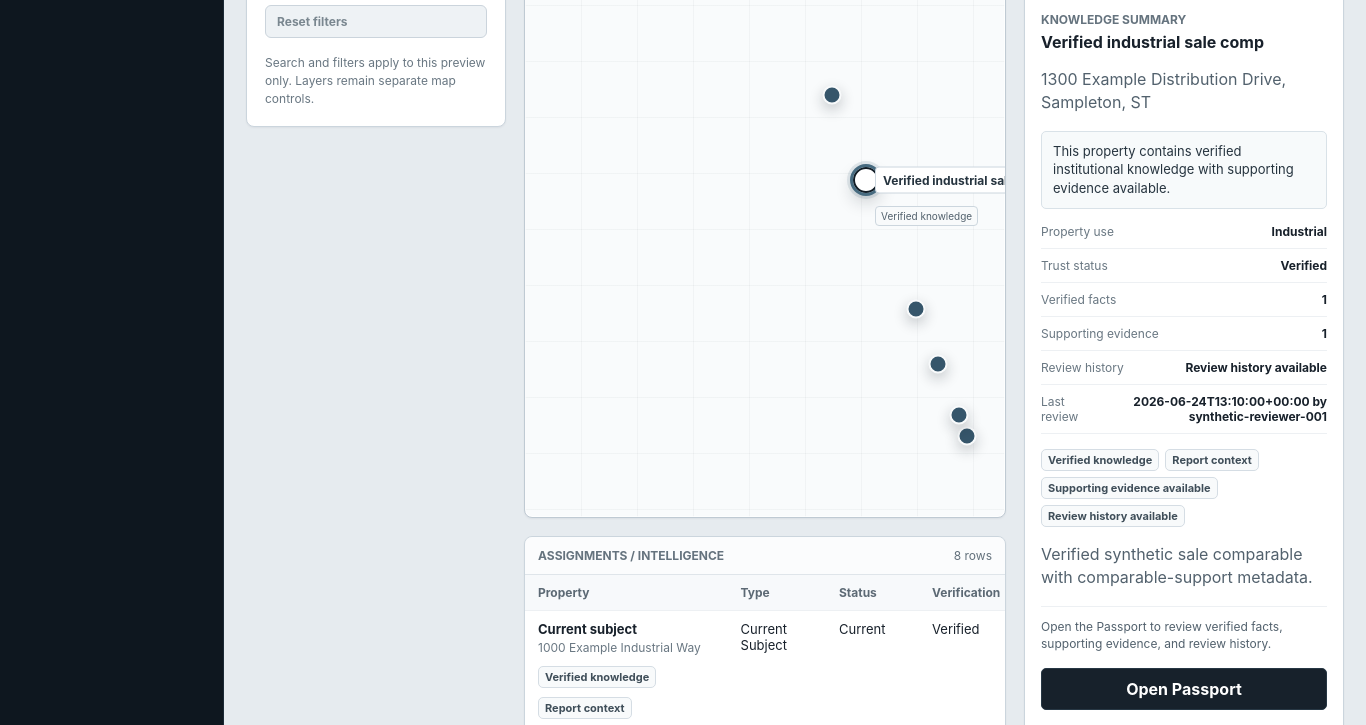
Test: IntelligenceWorkspacePreview › shows a calm unavailable summary when filters hide the selected property
(page scrolled)
Click the button named "Select Airport warehouse": coordinates (938, 364) [929, 355, 948, 374]
(page scrolled)
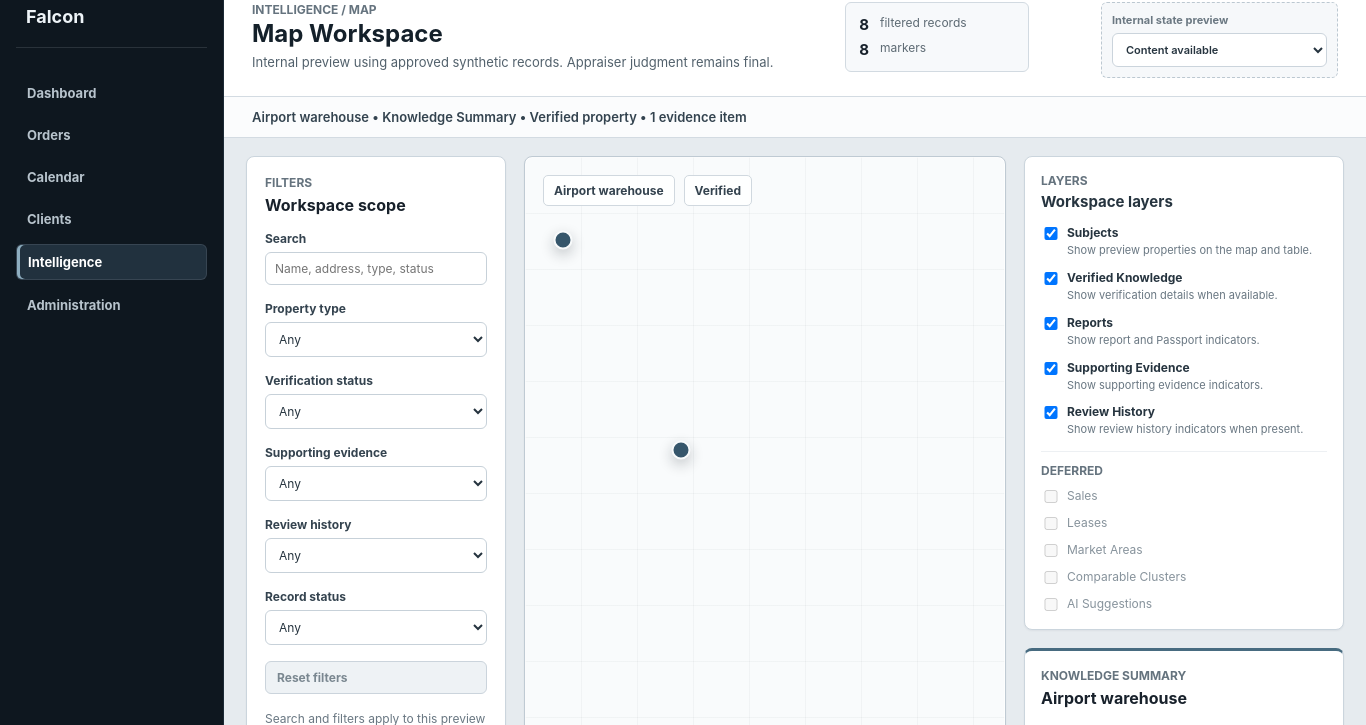
Select "Office" in the dropdown labelled "Property type": coordinates (376, 340) [265, 322, 487, 357]
(page scrolled)
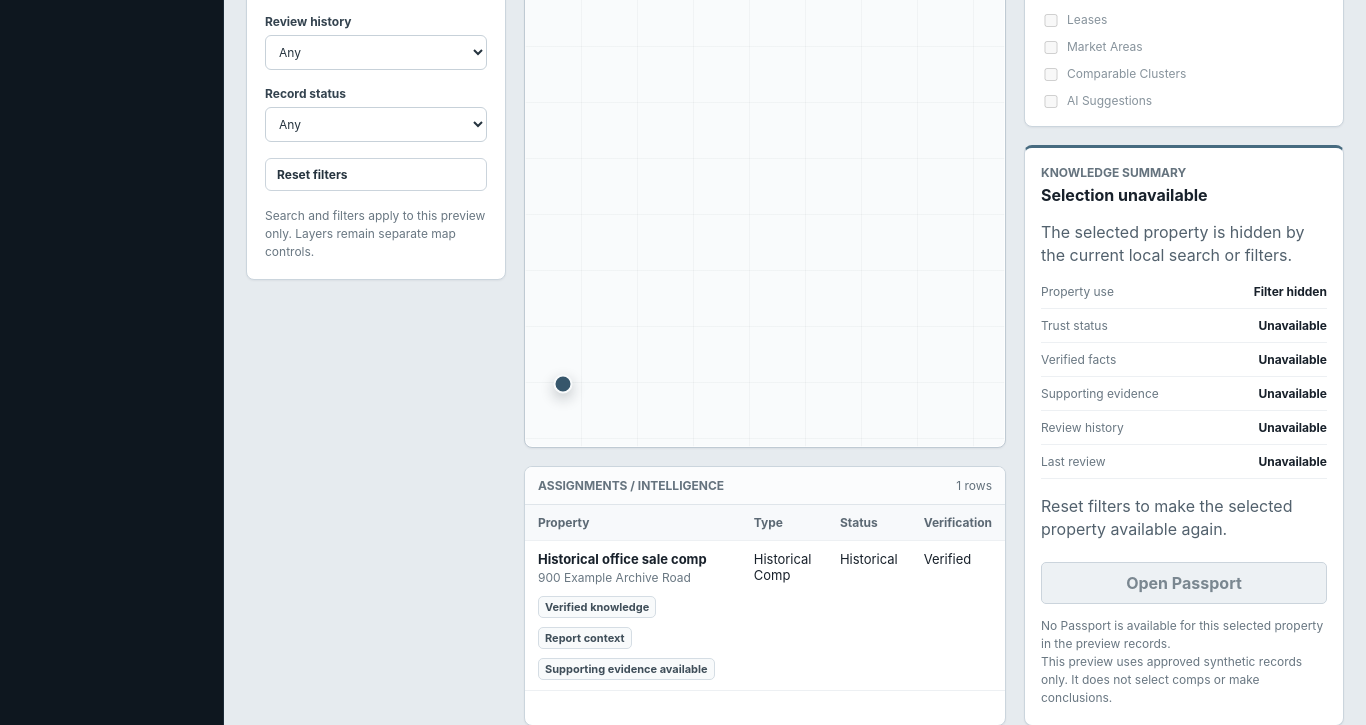
Expected: the heading "Selection unavailable" is shown, [1041, 185, 1208, 205]
Expected: the text "The selected property is hidden by the current local search or filters." is shown, [1041, 221, 1327, 268]
Expected: the button "Open Passport" is disabled, [1041, 562, 1327, 604]
